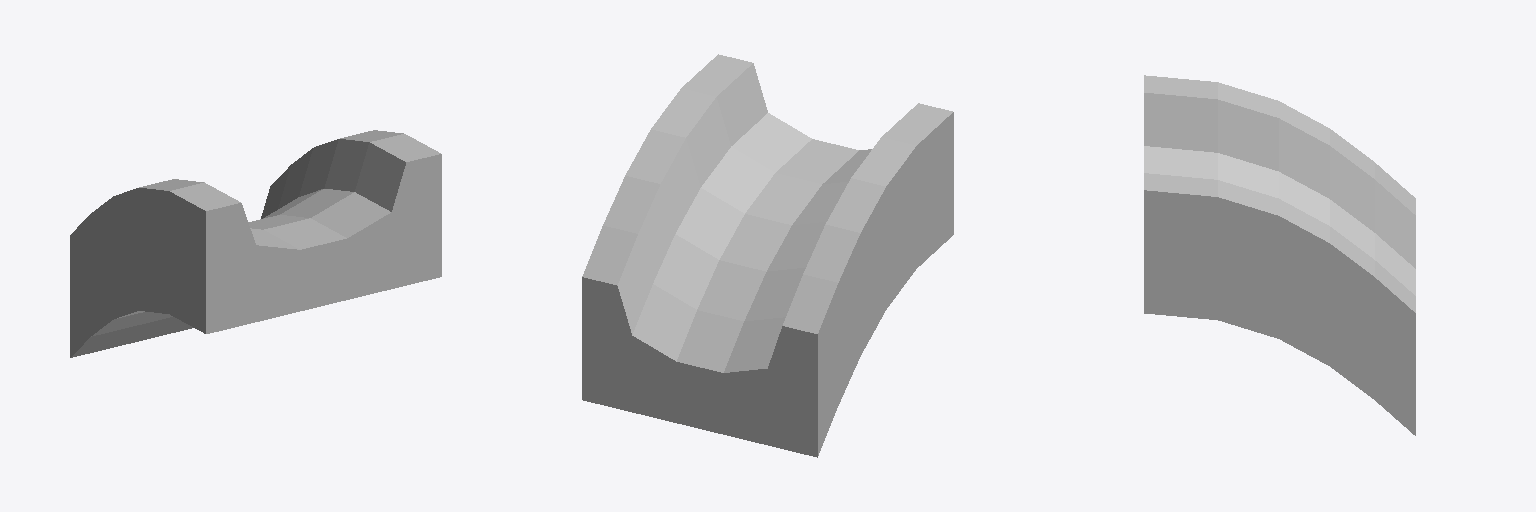
Rendered from ramp-end-c.obj.
3 views of the same model, side by side, from view 1: azimuth 30°, elevation 25°; view 2: azimuth 150°, elevation 25°; view 3: azimuth 270°, elevation 25° (orthographic).
Parts seen in each view (by area): view 1: ramp-end-c; view 2: ramp-end-c; view 3: ramp-end-c.
Part boxes in pixels (x1,y1,x2,y2): ramp-end-c: (70, 130, 441, 357); ramp-end-c: (582, 54, 953, 457); ramp-end-c: (1144, 75, 1415, 435).
Bounding box in the file's own units: 1 × 1 × 1.